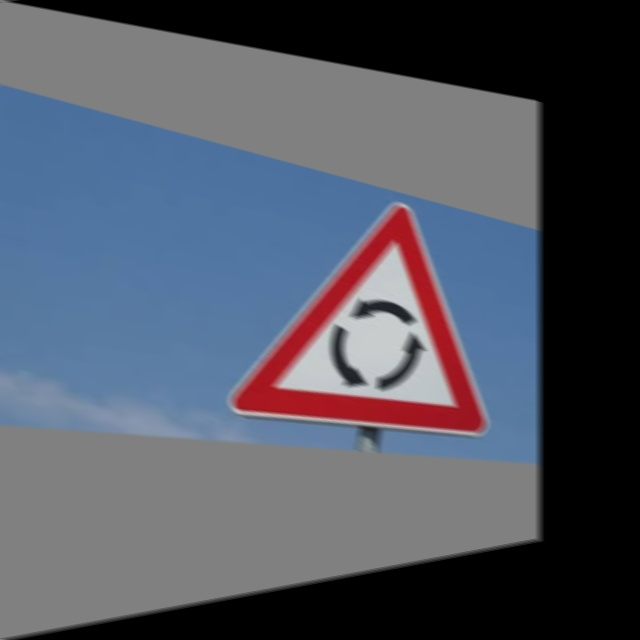Round_About: (232, 160, 505, 457)
